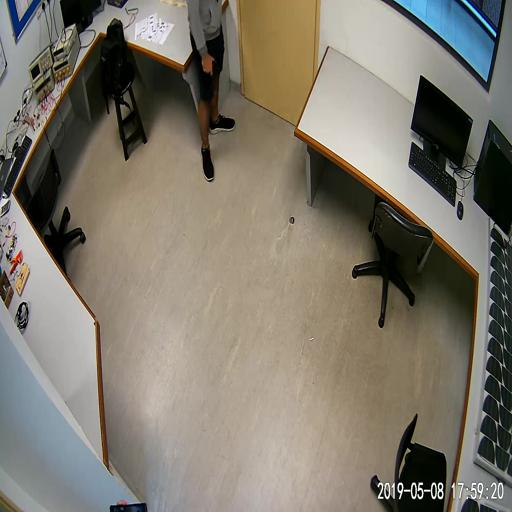pistol: (201, 55, 218, 99)
